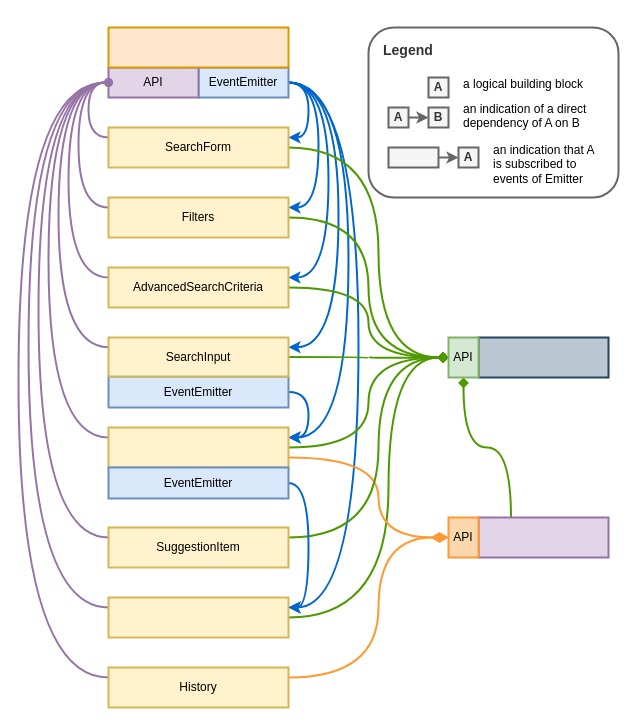
This 636x725 diagram has some shape labels left out. The box of each missing label's shape, as (x1, y1, x2, y2) in pixels:
AnalyticsDispatcher: (107, 596, 289, 638)
Commons & Utils: (477, 336, 609, 378)
Emitter: (387, 146, 439, 168)
Network: (477, 516, 609, 558)
Store: (107, 26, 289, 68)
SuggestionList: (107, 426, 289, 468)
